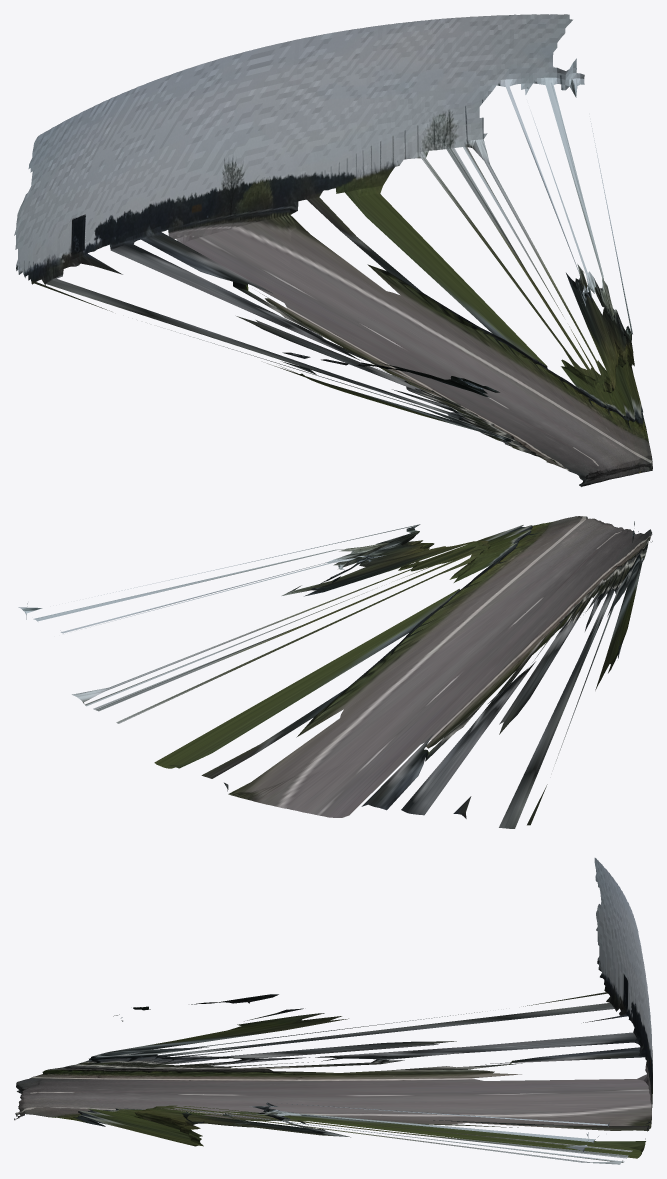
3 views of the same model, one above another, from view 1: azimuth 30°, elevation 25°; view 2: azimuth 150°, elevation 25°; view 3: azimuth 270°, elevation 25° (orthographic). The views are drawn at different scales.
Visible parts, largest first — view 1: defaultobject; view 2: defaultobject; view 3: defaultobject.
Part boxes in pixels (x1,y1,x2,y2): defaultobject: (14,14,652,486); defaultobject: (18,516,652,828); defaultobject: (14,858,652,1164).
Bounding box in the file's own units: 39.62 × 12.38 × 44.41.
1 material, 1 textured.
